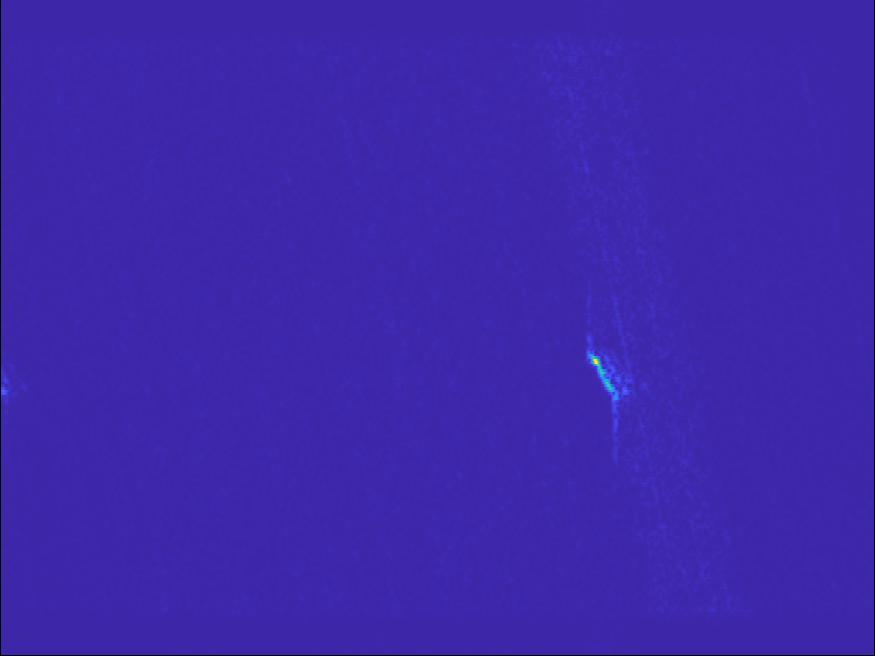Interference: (424, 454, 655, 642), (529, 13, 658, 119), (72, 481, 207, 520), (611, 551, 728, 595)
